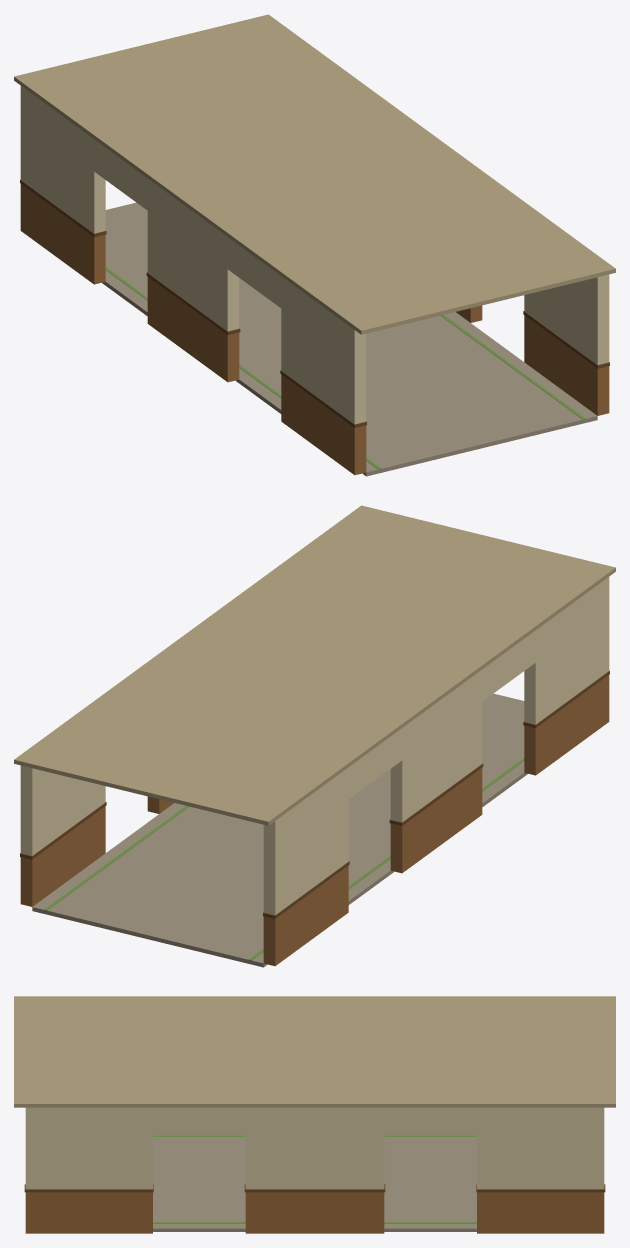
The model's file is room_shared_main_straight_long.glb.
3 renders of one model, top to bottom at view 1: azimuth 30°, elevation 25°; view 2: azimuth 150°, elevation 25°; view 3: azimuth 270°, elevation 25°, orthographic. The views are drawn at different scales.
Visible parts, largest first — view 1: room_shared_main_straight_long; view 2: room_shared_main_straight_long; view 3: room_shared_main_straight_long.
Boxes of the visible parts, x1,y1,x2,y2 form: room_shared_main_straight_long: [14, 14, 615, 476]; room_shared_main_straight_long: [14, 505, 615, 967]; room_shared_main_straight_long: [14, 996, 615, 1233].
Bounding box in the file's own units: 6.62 × 3.8 × 15.6.
Materials: 1 (1 with a texture image).
